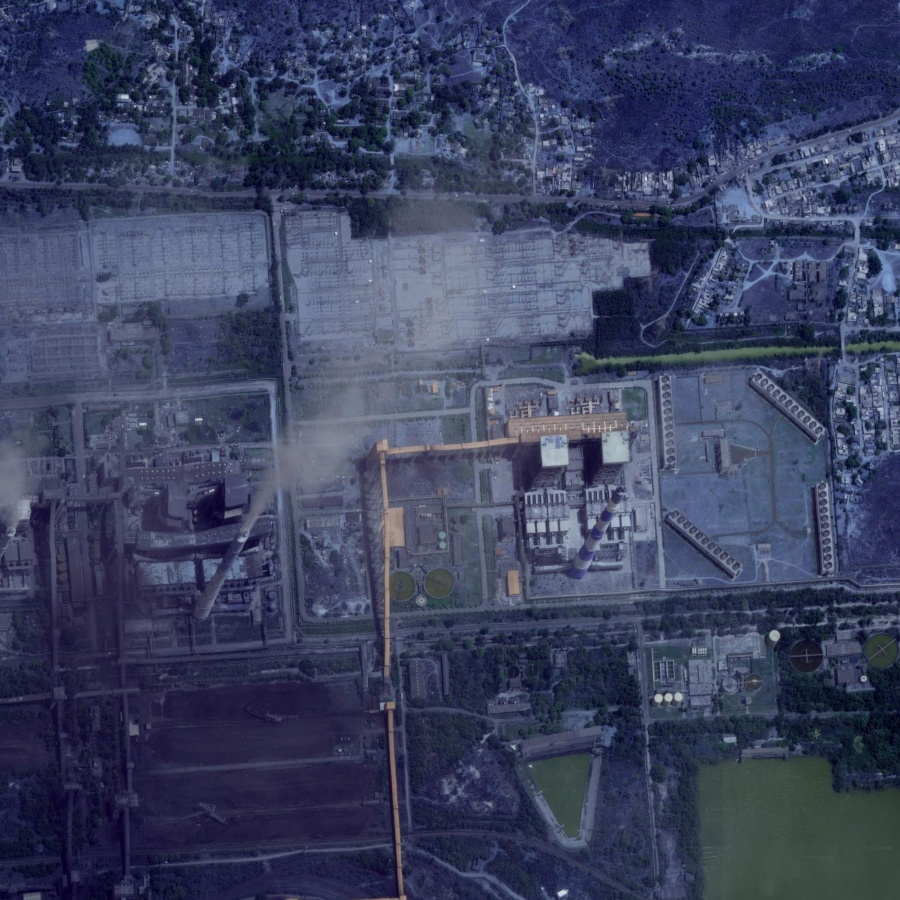PowerPlant: (517, 413, 641, 593)
